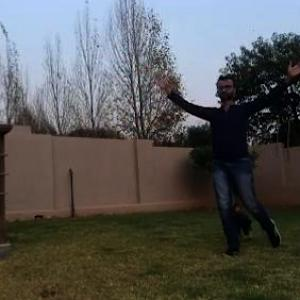takeoff: (176, 75, 299, 257)
